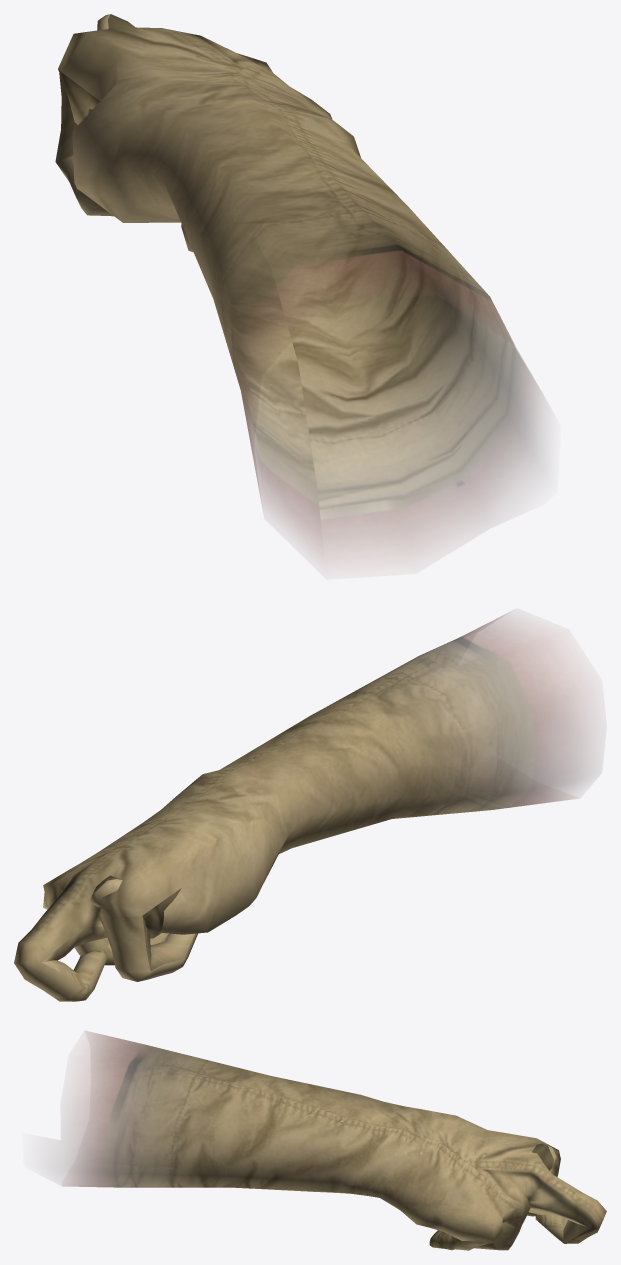
File: rb-right.glb
The picture shows the model from 3 angles, top to bottom: view 1: azimuth 30°, elevation 25°; view 2: azimuth 150°, elevation 25°; view 3: azimuth 270°, elevation 25°; orthographic projection. The views are drawn at different scales.
Parts seen in each view (by area): view 1: main-right; view 2: main-right; view 3: main-right.
Part boxes in pixels (x1,y1,x2,y2): main-right: (55, 14, 545, 567); main-right: (14, 610, 598, 1001); main-right: (57, 1031, 606, 1250).
Size of the model in its own units: 0.1609 by 0.0984 by 0.3506.
Materials: 1 (1 with a texture image).
